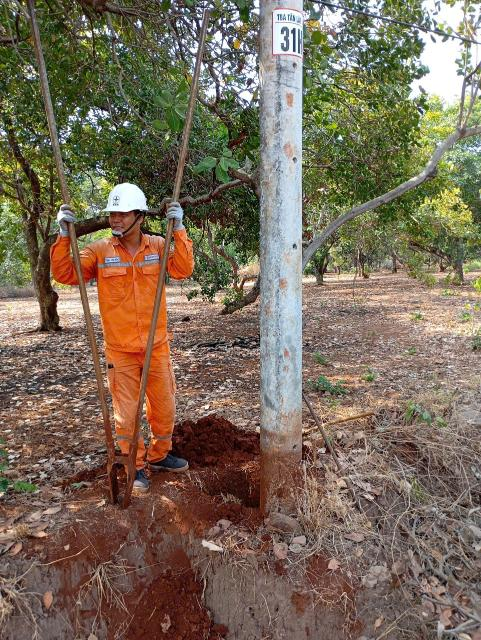gloves: (163, 201, 189, 232), (58, 206, 82, 239)
helmet: (96, 176, 156, 227)
shoes: (142, 435, 186, 471), (119, 461, 153, 492)
